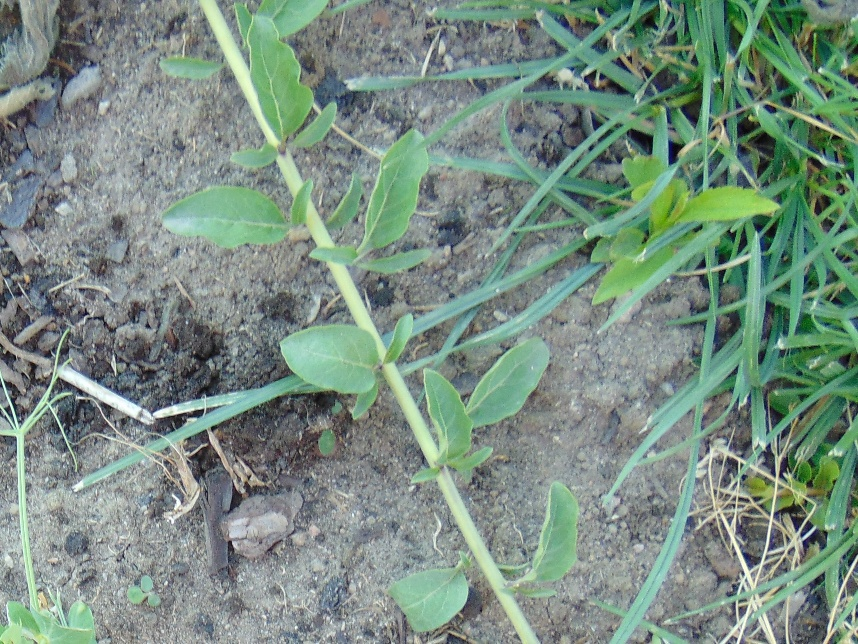crop: (1, 381, 67, 644), (1, 580, 107, 642)
weed: (682, 1, 858, 644), (497, 1, 856, 313), (164, 122, 430, 276), (282, 319, 548, 473), (390, 477, 583, 632), (165, 2, 335, 158), (125, 572, 163, 608)
